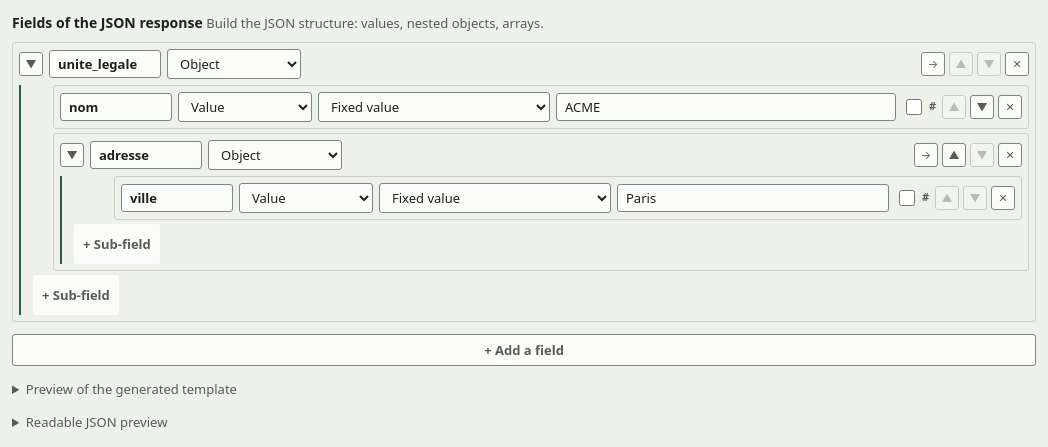
Scenario: JsonResponseBuilder — pliage/depliage des noeuds imbriques › replier un noeud masque son contenu et affiche un indicateur, sans perdre les donnees
Click the button named "Collapse unite_legale" at (31, 64), box [19,52,43,76]
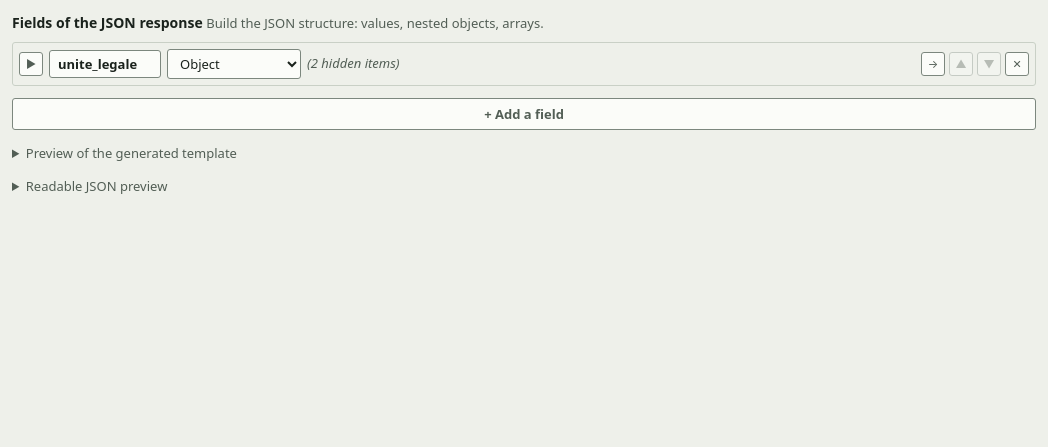
Expected: the field showing "nom" is not shown
Now the button named "Expand unite_legale" is collapsed, box [19,52,43,76]
